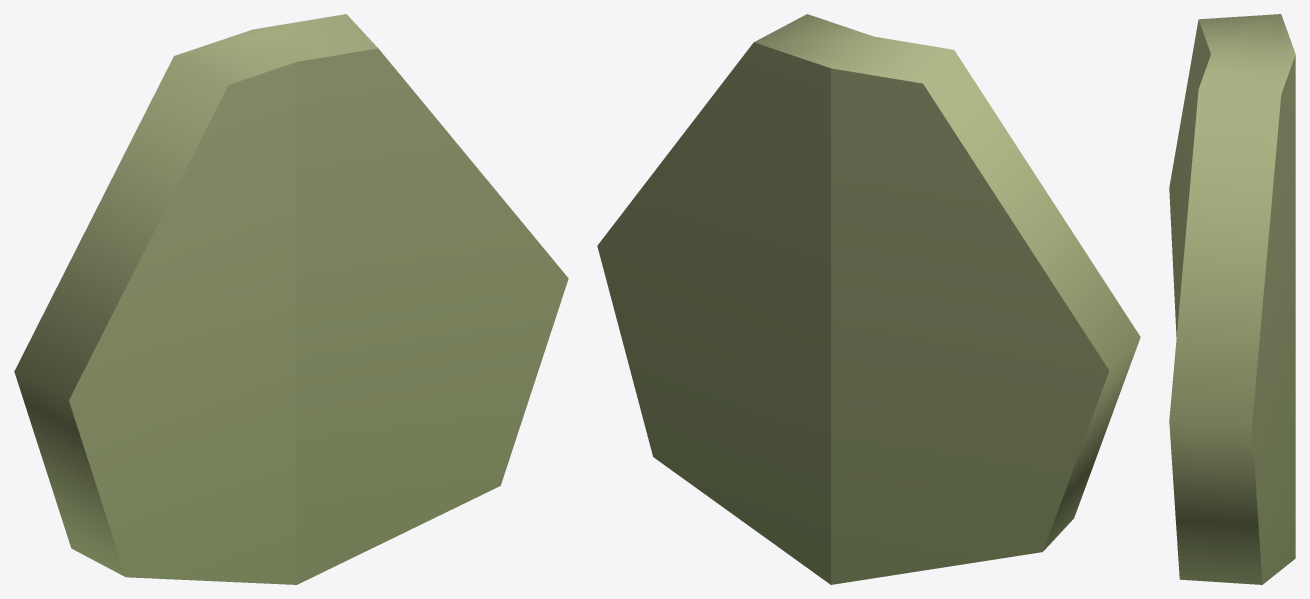
Rendered from organic-leaf-c.glb.
3 views of the same model, side by side, from view 1: azimuth 30°, elevation 25°; view 2: azimuth 150°, elevation 25°; view 3: azimuth 270°, elevation 25° (orthographic). The views are drawn at different scales.
Parts seen in each view (by area): view 1: organic-leaf-c; view 2: organic-leaf-c; view 3: organic-leaf-c.
Boxes of the visible parts, x1,y1,x2,y2 form: organic-leaf-c: [14, 14, 568, 584]; organic-leaf-c: [597, 14, 1140, 584]; organic-leaf-c: [1169, 14, 1295, 584].
Bounding box in the file's own units: 0.1725 × 0.1662 × 0.0378.
